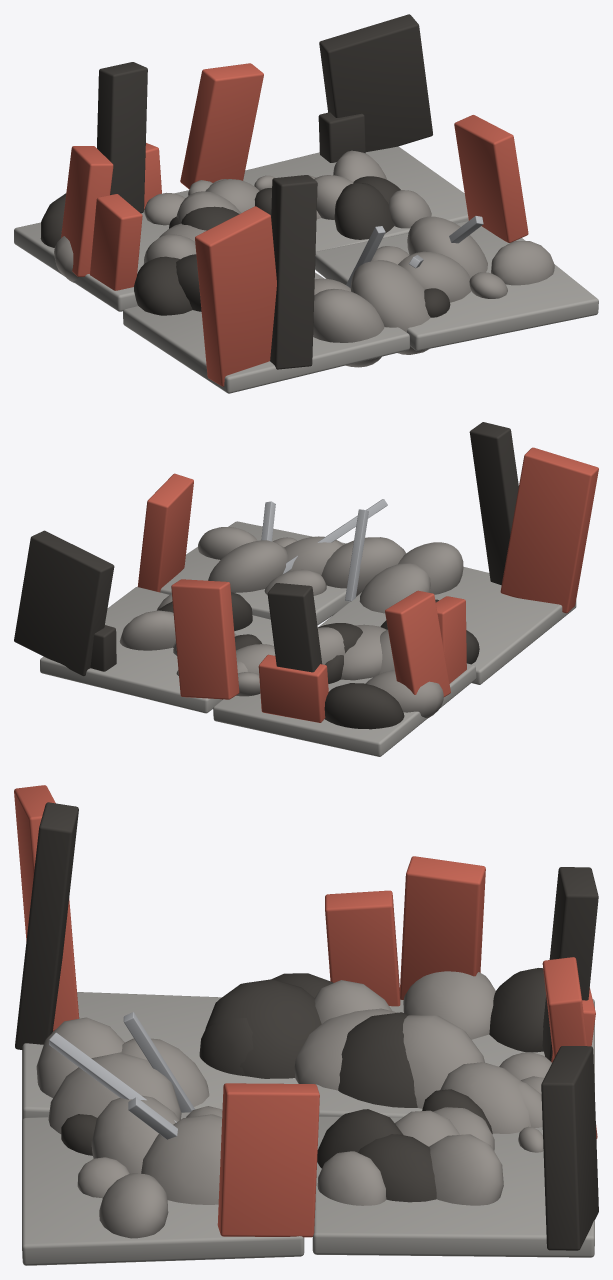
Rendered from building_ruin6x6.glb.
3 renders of one model, top to bottom at view 1: azimuth 30°, elevation 25°; view 2: azimuth 150°, elevation 25°; view 3: azimuth 270°, elevation 25°, orthographic. The views are drawn at different scales.
Visible parts, largest first — view 1: Cube.009, Cube.005, Cube.001, Cube.010, Cube, Cube.013, Cube.008, Cube.007, Cube.003, Cube.011, Cube.006, Sphere.006 (+24 smaller); view 2: Cube.009, Cube.005, Cube, Cube.003, Cube.013, Cube.002, Cube.010, Cube.011, Cube.008, Cube.007, Cube.004, Cube.001 (+22 smaller); view 3: Cube.003, Cube.001, Cube.008, Cube.005, Cube.011, Cube.010, Cube, Cube.006, Sphere.014, Sphere.029, Sphere.007, Cube.007 (+30 smaller).
Part boxes in pixels (x1,y1,x2,y2): Cube.009: [195, 206, 276, 386]; Cube.005: [319, 14, 432, 151]; Cube.001: [315, 220, 598, 350]; Cube.010: [270, 175, 317, 369]; Cube: [123, 272, 409, 393]; Cube.013: [180, 63, 263, 189]; Cube.008: [454, 115, 528, 242]; Cube.007: [97, 62, 147, 213]; Cube.003: [243, 146, 468, 251]; Cube.011: [61, 146, 113, 276]; Cube.006: [90, 194, 142, 290]; Sphere.006: [350, 260, 430, 354]; Cube.009: [500, 447, 598, 613]; Cube.005: [14, 530, 114, 676]; Cube: [318, 566, 576, 684]; Cube.003: [40, 587, 273, 713]; Cube.013: [171, 579, 239, 699]; Cube.002: [213, 663, 476, 756]; Cube.010: [469, 422, 518, 585]; Cube.011: [385, 590, 450, 697]; Cube.008: [137, 473, 193, 592]; Cube.007: [267, 583, 322, 716]; Cube.004: [258, 654, 328, 722]; Cube.001: [160, 521, 349, 625]; Cube.003: [312, 1116, 594, 1257]; Cube.001: [22, 1112, 304, 1265]; Cube.008: [217, 1083, 319, 1237]; Cube.005: [541, 1046, 598, 1250]; Cube.011: [399, 856, 485, 999]; Cube.010: [15, 802, 78, 1049]; Cube: [22, 992, 298, 1120]; Cube.006: [325, 890, 400, 1006]; Sphere.014: [205, 979, 321, 1078]; Sphere.029: [338, 1012, 417, 1107]; Sphere.007: [141, 1114, 222, 1204]; Cube.007: [542, 867, 598, 1061].
Bounding box in the file's own units: 6.83 × 3.3 × 6.04.
